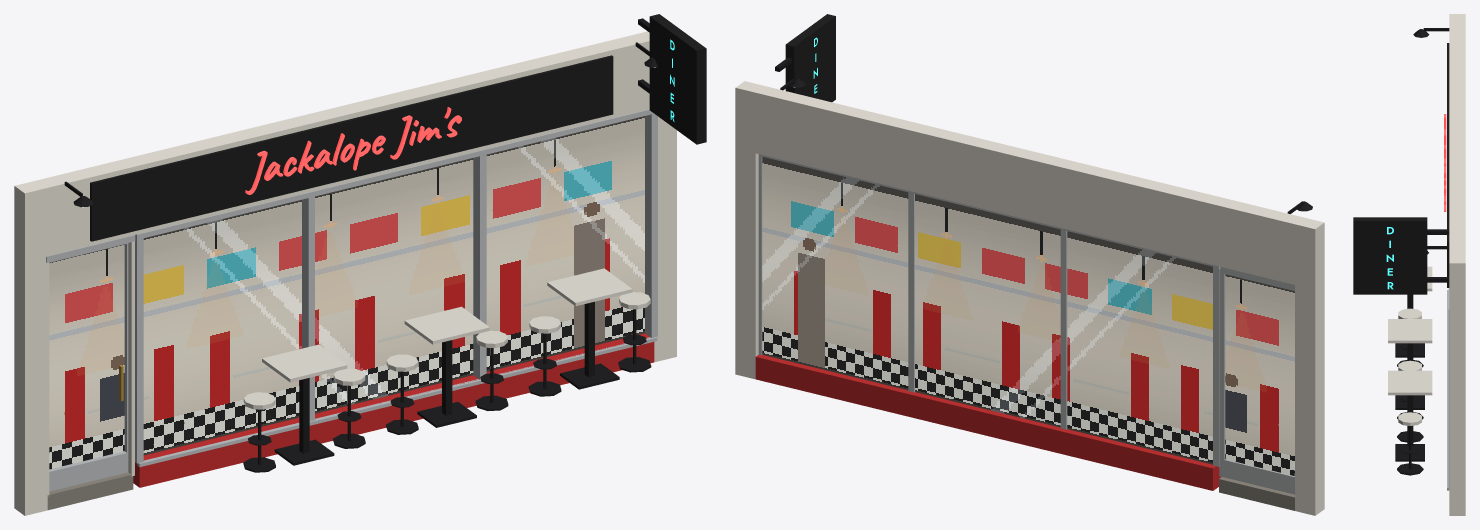
The model's file is jackalope_jims.glb.
The picture shows the model from 3 angles, left to right: view 1: azimuth 30°, elevation 25°; view 2: azimuth 150°, elevation 25°; view 3: azimuth 270°, elevation 25°; orthographic projection. The views are drawn at different scales.
Visible parts, largest first — view 1: JackalopeJims; view 2: JackalopeJims; view 3: JackalopeJims.
Boxes of the visible parts, <box> form: JackalopeJims: <box>14,14,706,515</box>; JackalopeJims: <box>735,14,1324,515</box>; JackalopeJims: <box>1353,14,1465,515</box>.
Size of what is drawn, in the model's own units: 8 by 4.23 by 1.52.
Materials: 13 (1 with a texture image).
